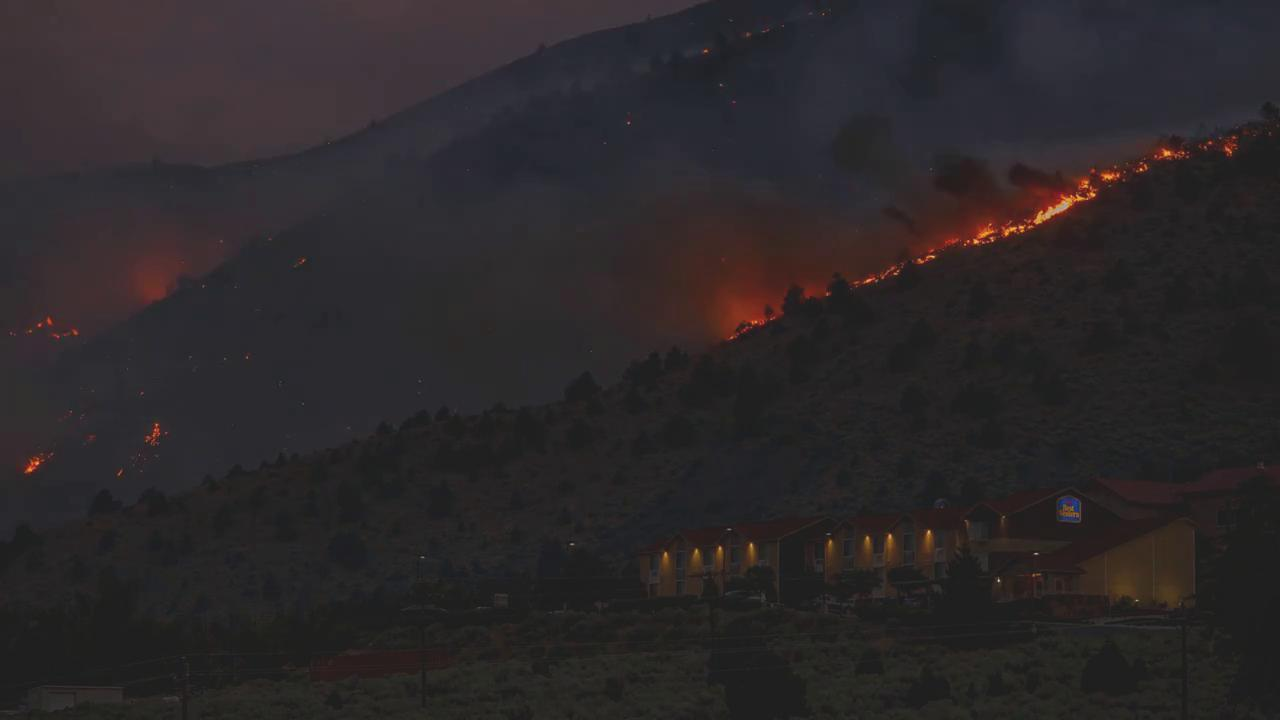fire: (968, 177, 1094, 248), (725, 311, 774, 340), (858, 261, 905, 284), (1158, 145, 1191, 163), (144, 419, 164, 448), (1223, 129, 1241, 156), (25, 455, 43, 481), (53, 327, 77, 341), (1094, 167, 1118, 180), (915, 250, 934, 263), (37, 314, 56, 325)
